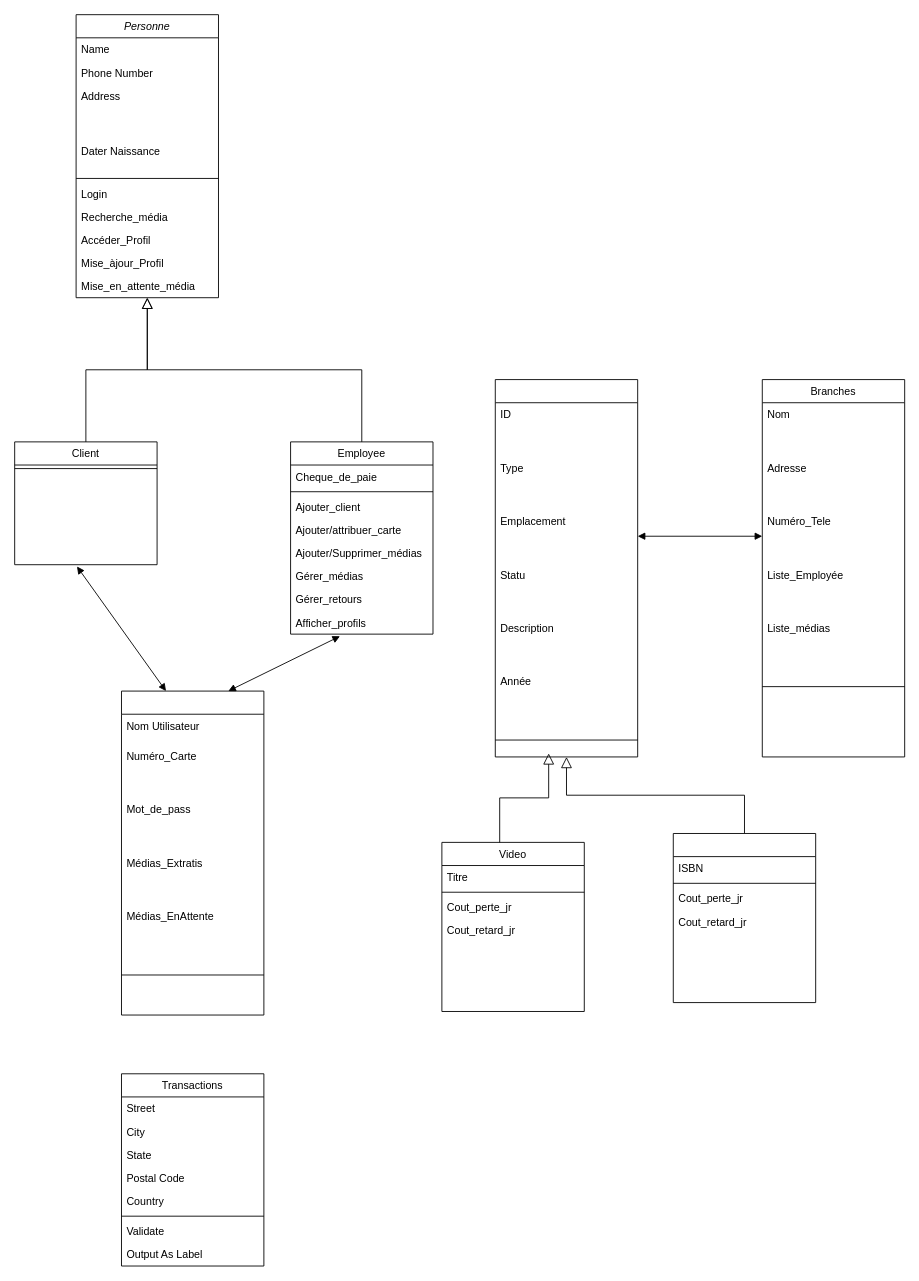
Image size: 919x1281. Some labels were removed from this diagram. The shapes that lost their labels are listed below. From the top down, each one's box as (x1, y1, x2, y2) in pixels, then its label:
(494, 379, 638, 757): Médias
(121, 690, 264, 1015): Carte Biblio
(672, 833, 816, 1003): Livre
